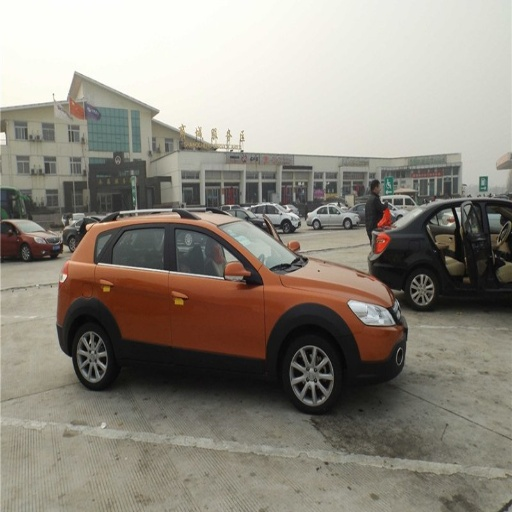front_right_door: (173, 224, 264, 360)
